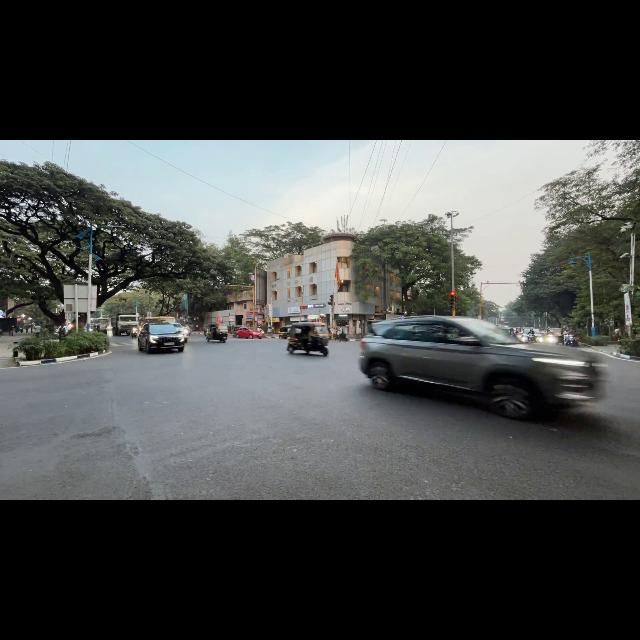bus: (144, 317, 176, 323)
car: (360, 316, 602, 419), (138, 323, 184, 353), (170, 323, 189, 342), (520, 328, 543, 342), (237, 327, 263, 338), (279, 326, 289, 338)
motorcycle: (565, 335, 578, 347), (130, 326, 138, 338), (526, 333, 536, 342)
truck: (111, 314, 138, 335), (91, 318, 109, 333)
